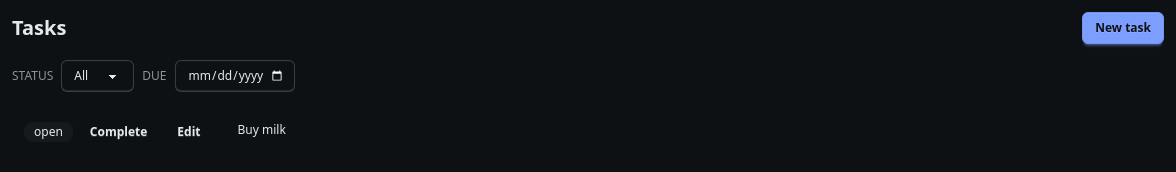
Test: TasksPage › completes a task with PATCH and reopens it again
Click the button with aria-label "Complete Buy milk" at (119, 132), box 77,116 -> 160,148
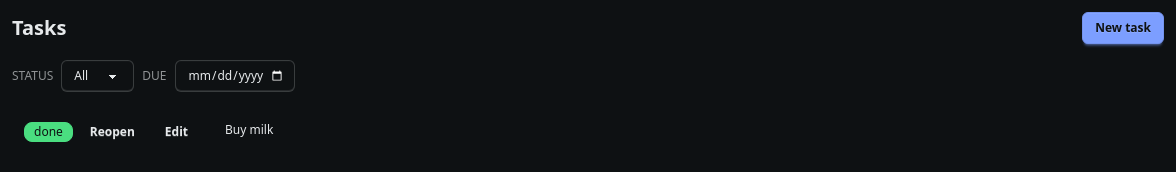
Now the button with aria-label "Reopen Buy milk" is shown
Click the button with aria-label "Reopen Buy milk" at (112, 132), box 77,116 -> 148,148
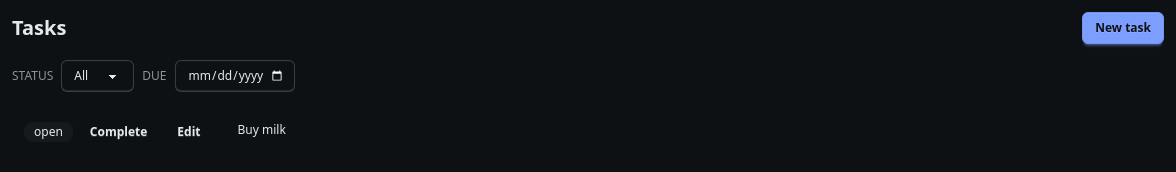
Now the button with aria-label "Complete Buy milk" is shown, box 77,116 -> 160,148
